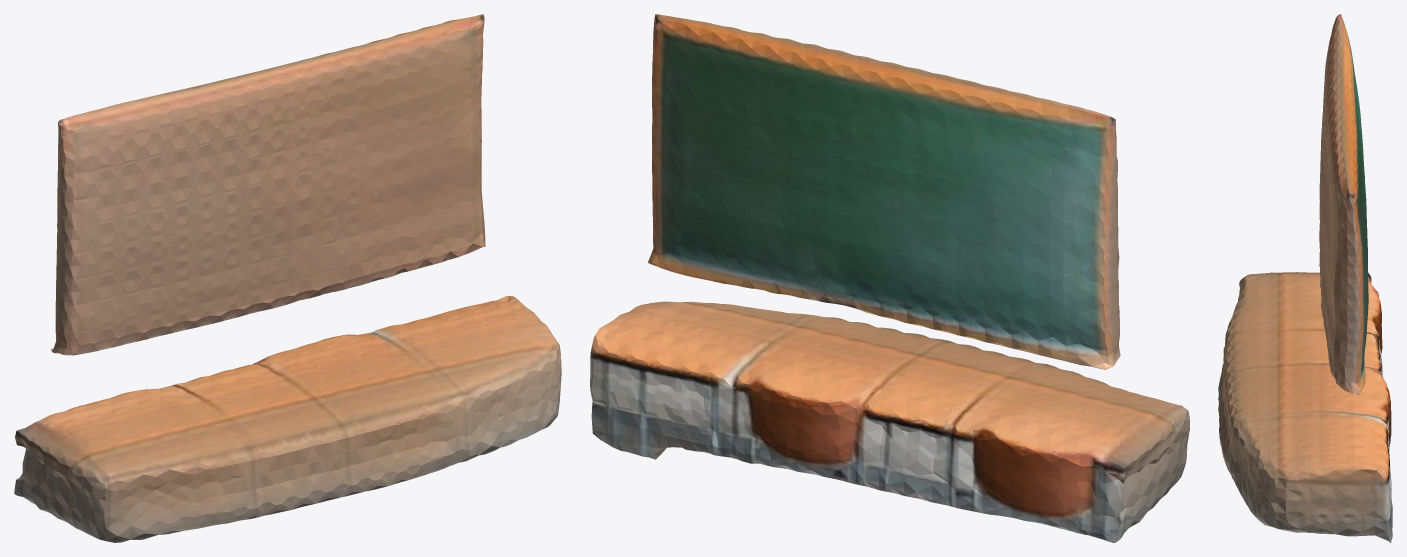
Rendered from board.glb.
3 views of the same model, side by side, from view 1: azimuth 30°, elevation 25°; view 2: azimuth 150°, elevation 25°; view 3: azimuth 270°, elevation 25° (orthographic). The views are drawn at different scales.
Visible parts, largest first — view 1: 320ff1b6-5890-4cd1-b82a-3f7b1e501ba5; view 2: 320ff1b6-5890-4cd1-b82a-3f7b1e501ba5; view 3: 320ff1b6-5890-4cd1-b82a-3f7b1e501ba5.
Boxes of the visible parts, x1,y1,x2,y2 form: 320ff1b6-5890-4cd1-b82a-3f7b1e501ba5: [14, 14, 561, 542]; 320ff1b6-5890-4cd1-b82a-3f7b1e501ba5: [590, 14, 1189, 542]; 320ff1b6-5890-4cd1-b82a-3f7b1e501ba5: [1218, 14, 1392, 542].
Bounding box in the file's own units: 0.6495 × 0.5 × 0.2295.
Materials: 1 (1 with a texture image).
